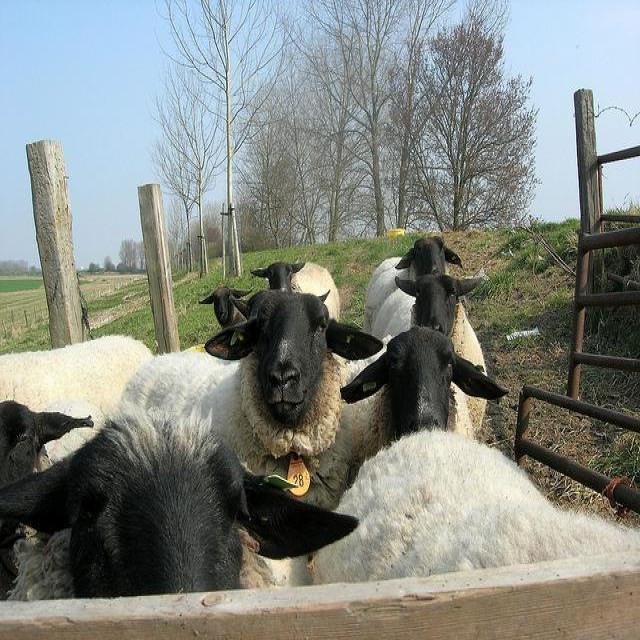Sheep: (0, 407, 357, 601), (113, 288, 398, 519), (308, 421, 639, 592), (320, 321, 513, 504), (1, 334, 153, 474), (371, 276, 486, 431), (2, 404, 92, 481), (249, 254, 341, 318), (363, 256, 413, 328), (395, 234, 465, 282)
